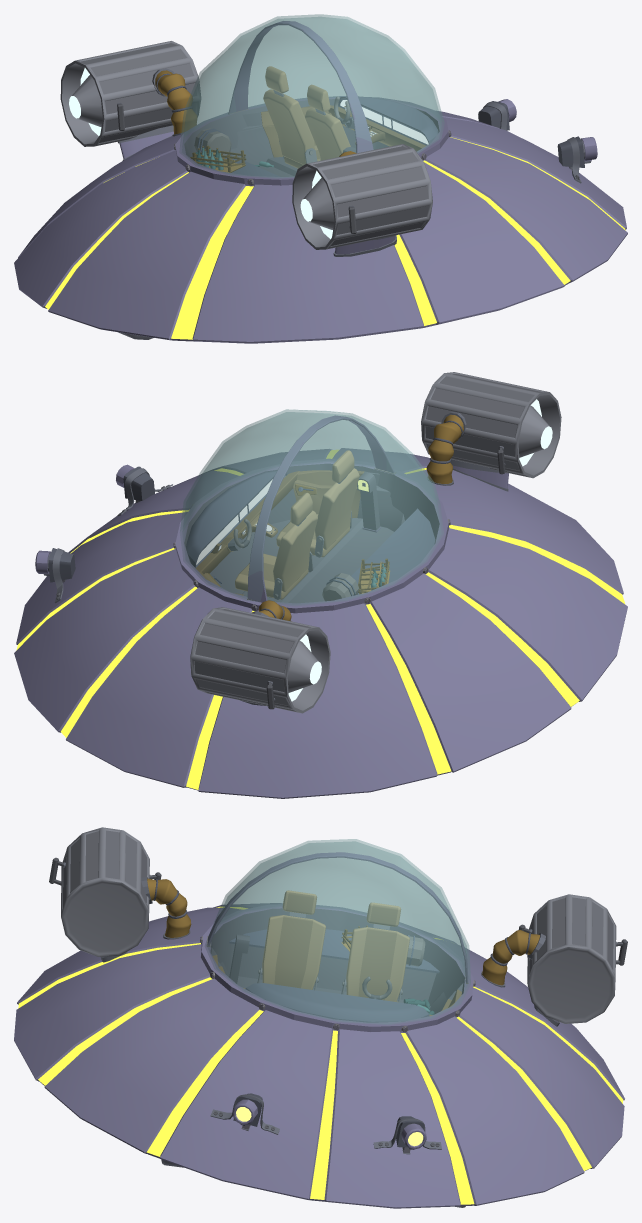
The model's file is pedalo.gltf.
The picture shows the model from 3 angles, top to bottom: view 1: azimuth 30°, elevation 25°; view 2: azimuth 150°, elevation 25°; view 3: azimuth 270°, elevation 25°; orthographic projection.
Parts seen in each view (by area): view 1: polySurface551; view 2: polySurface551; view 3: polySurface551.
Boxes of the visible parts, bbox=[...] form: polySurface551: bbox=[14, 14, 627, 343]; polySurface551: bbox=[14, 372, 627, 798]; polySurface551: bbox=[14, 827, 627, 1208].
Bounding box in the file's own units: 9.27 × 4.54 × 9.15.
